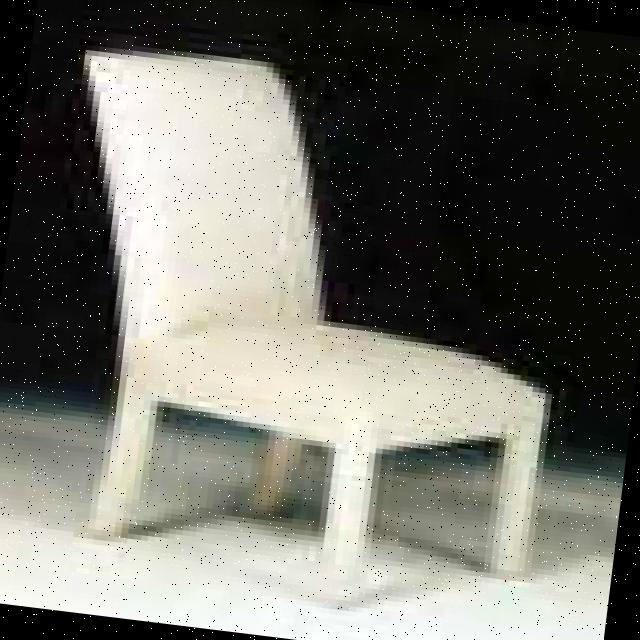Chair: (2, 21, 616, 634)
